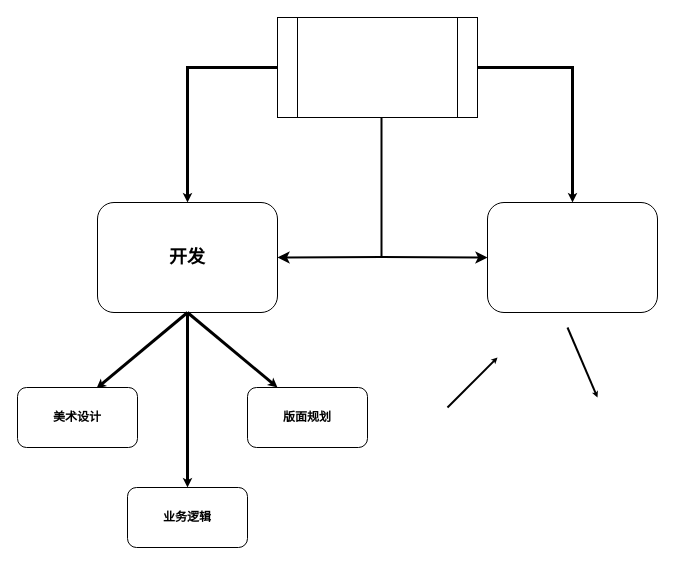
The diagram is 675 pixels wide and 565 high, and some of its shapes have lost their labels. The shapes that lost their labels are listed below. From the top down, each one's box as (x1, y1, x2, y2) in pixels, then its label:
(276, 16, 478, 118): Title
(486, 202, 658, 312): 运营
